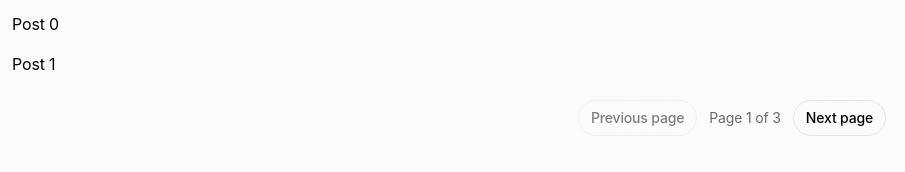
Test: PostList — fullwidth variant (paginated) › moves to the next page and back on control click
Click the button "Next page" at (839,118), box 793,100 -> 886,136
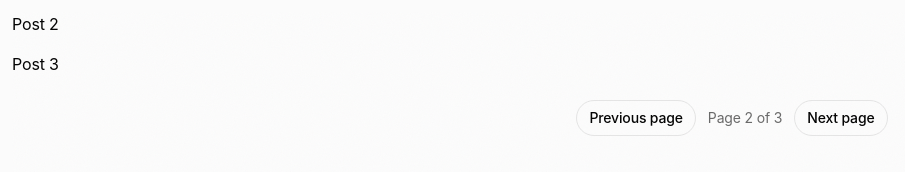
Expected: the text "Post 2" is shown, 12,14 -> 59,34
Expected: the text "Post 3" is shown, 12,54 -> 59,74
Expected: the text with test id "post-0" is gone
Click the button "Previous page" at (636,118), box 576,100 -> 696,136
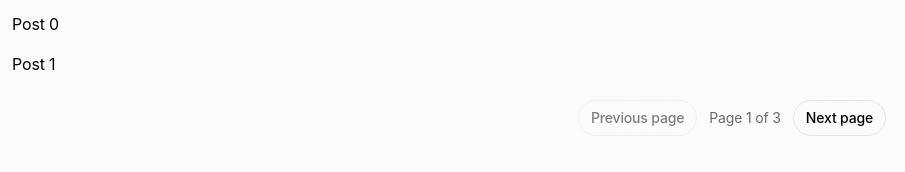
Expected: the text "Post 0" is shown, 12,14 -> 59,34
Expected: the text "Page 1 of 3" is shown, 709,108 -> 781,128
